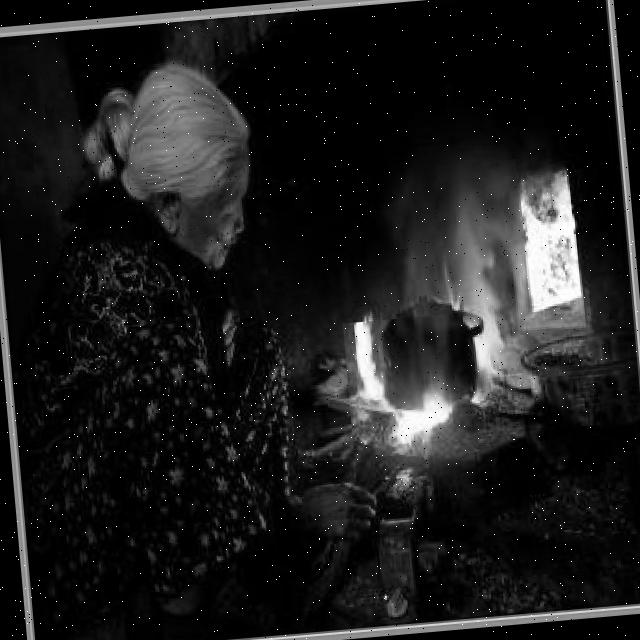fire: (342, 313, 476, 482)
